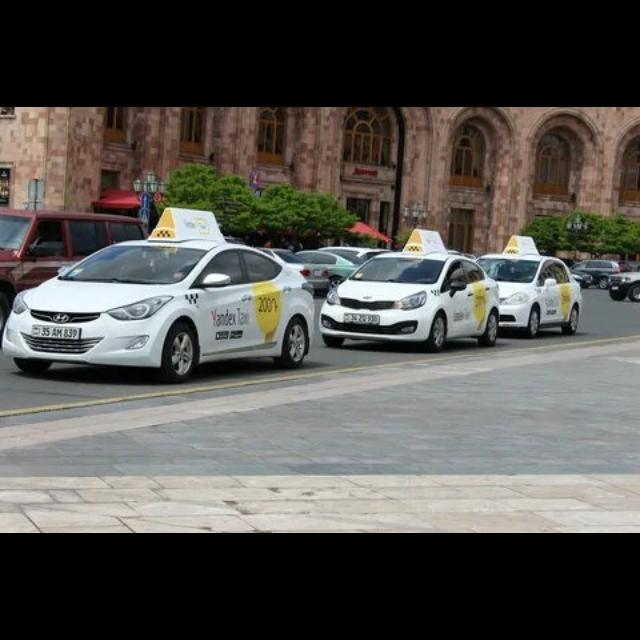taxi: (1, 207, 315, 384), (320, 229, 501, 354), (2, 208, 151, 346), (475, 235, 584, 339)
